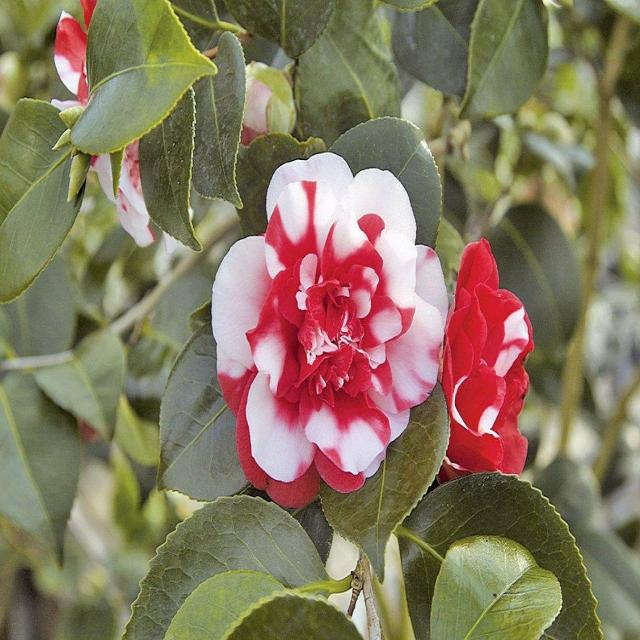organic waste: (203, 148, 444, 489), (435, 233, 549, 487)
